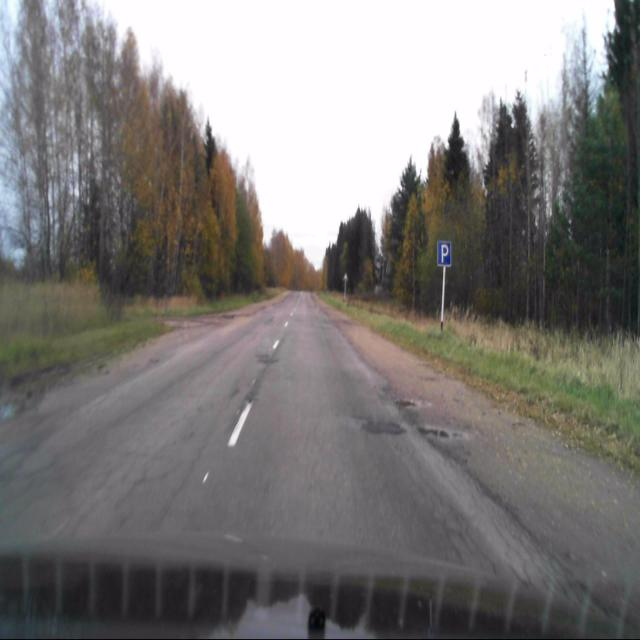road sign: (436, 239, 452, 268)
